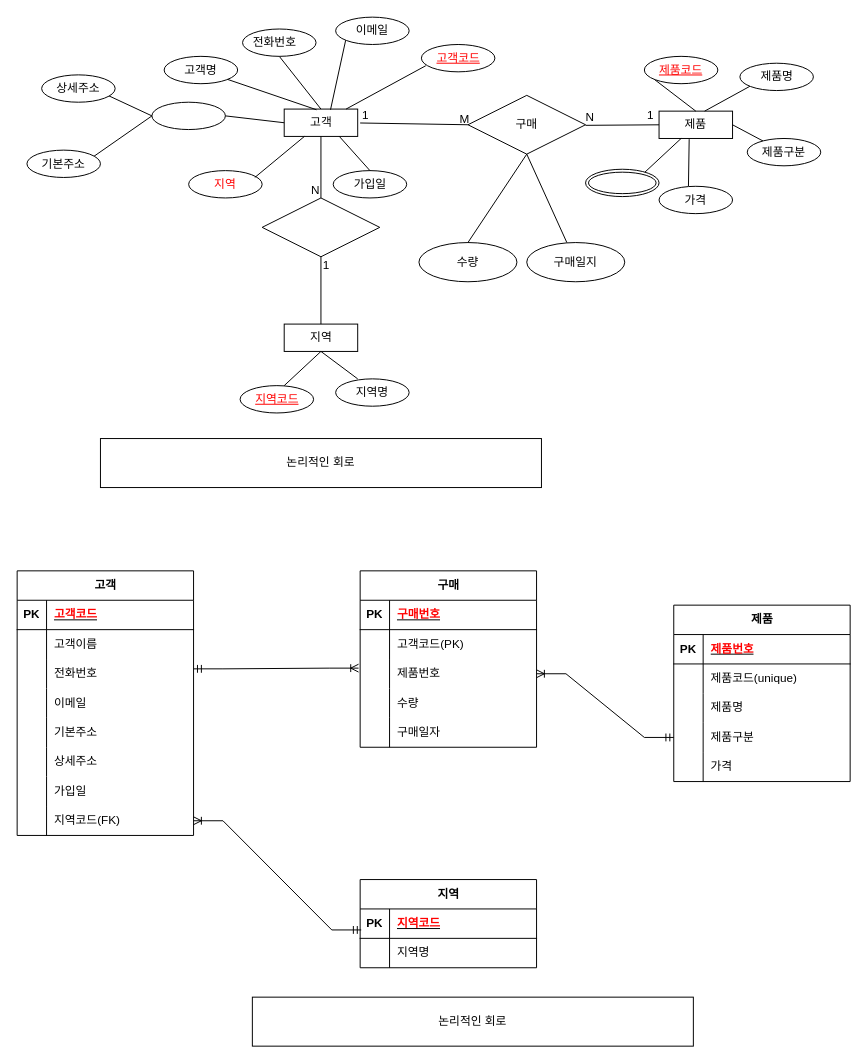
Image size: 867x1063. Some labels were removed from this diagram. Each missing label, with the centre of its shape:
관리: the point at 320,227
제품색상: the point at 622,182
주소: the point at 188,115
